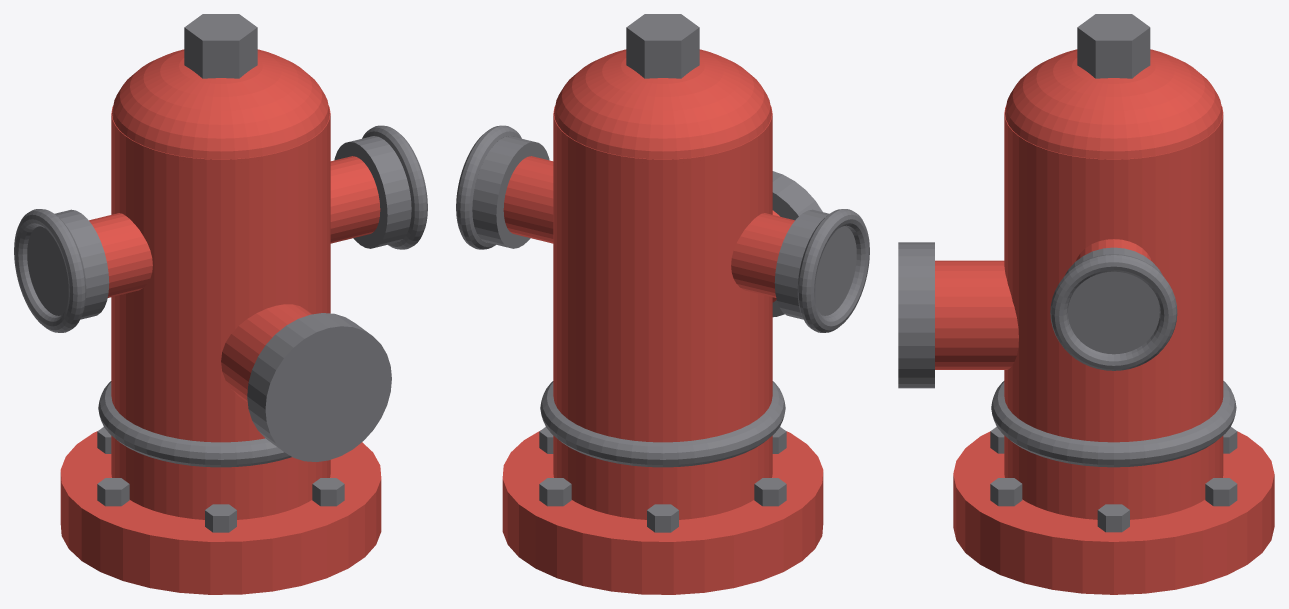
Rendered from fire-hydrant-blender.glb.
3 renders of one model, left to right at view 1: azimuth 30°, elevation 25°; view 2: azimuth 150°, elevation 25°; view 3: azimuth 270°, elevation 25°, orthographic.
Parts seen in each view (by area): view 1: Cylinder.007, Cylinder, Sphere, Cylinder.014, Cylinder.012, Torus.004, Torus.006, Cylinder.008, Cylinder.010, Cylinder.009, Cylinder.011, Cylinder.013 (+4 smaller); view 2: Cylinder.007, Cylinder, Sphere, Torus.004, Cylinder.012, Torus.006, Cylinder.008, Cylinder.010, Cylinder.009, Cylinder.011, Torus.005, Cylinder.014 (+3 smaller); view 3: Cylinder.007, Cylinder, Sphere, Cylinder.013, Torus.004, Cylinder.010, Torus.005, Cylinder.014, Cylinder.008, Cylinder.006, Cylinder.002, Cylinder.001 (+1 smaller).
Part boxes in pixels (bbox=[...]): Cylinder.007: bbox=[111, 106, 330, 519]; Cylinder: bbox=[60, 431, 381, 594]; Sphere: bbox=[112, 49, 329, 159]; Cylinder.014: bbox=[247, 313, 391, 461]; Cylinder.012: bbox=[27, 209, 109, 319]; Torus.004: bbox=[98, 381, 291, 467]; Torus.006: bbox=[14, 209, 86, 332]; Cylinder.008: bbox=[184, 14, 257, 78]; Cylinder.010: bbox=[334, 136, 411, 248]; Cylinder.009: bbox=[330, 156, 380, 243]; Cylinder.011: bbox=[89, 213, 152, 297]; Cylinder.013: bbox=[221, 304, 311, 402]; Cylinder.007: bbox=[553, 106, 772, 519]; Cylinder: bbox=[502, 430, 823, 594]; Sphere: bbox=[554, 49, 771, 159]; Torus.004: bbox=[540, 381, 785, 467]; Cylinder.012: bbox=[774, 209, 856, 319]; Torus.006: bbox=[797, 209, 869, 332]; Cylinder.008: bbox=[626, 14, 699, 78]; Cylinder.010: bbox=[472, 136, 549, 248]; Cylinder.009: bbox=[503, 156, 553, 243]; Cylinder.011: bbox=[731, 213, 794, 297]; Torus.005: bbox=[456, 125, 521, 249]; Cylinder.014: bbox=[772, 171, 822, 317]; Cylinder.007: bbox=[1004, 105, 1223, 519]; Cylinder: bbox=[953, 431, 1274, 594]; Sphere: bbox=[1005, 49, 1222, 159]; Cylinder.013: bbox=[935, 260, 1018, 369]; Torus.004: bbox=[991, 381, 1236, 467]; Cylinder.010: bbox=[1065, 247, 1162, 354]; Torus.005: bbox=[1050, 254, 1177, 370]; Cylinder.014: bbox=[898, 242, 934, 388]; Cylinder.008: bbox=[1077, 14, 1150, 78]; Cylinder.006: bbox=[990, 478, 1022, 506]; Cylinder.002: bbox=[1205, 478, 1237, 506]; Cylinder.001: bbox=[1097, 504, 1129, 532].
Size of what is drawn, in the model's own units: 0.564 by 0.755 by 0.515.
